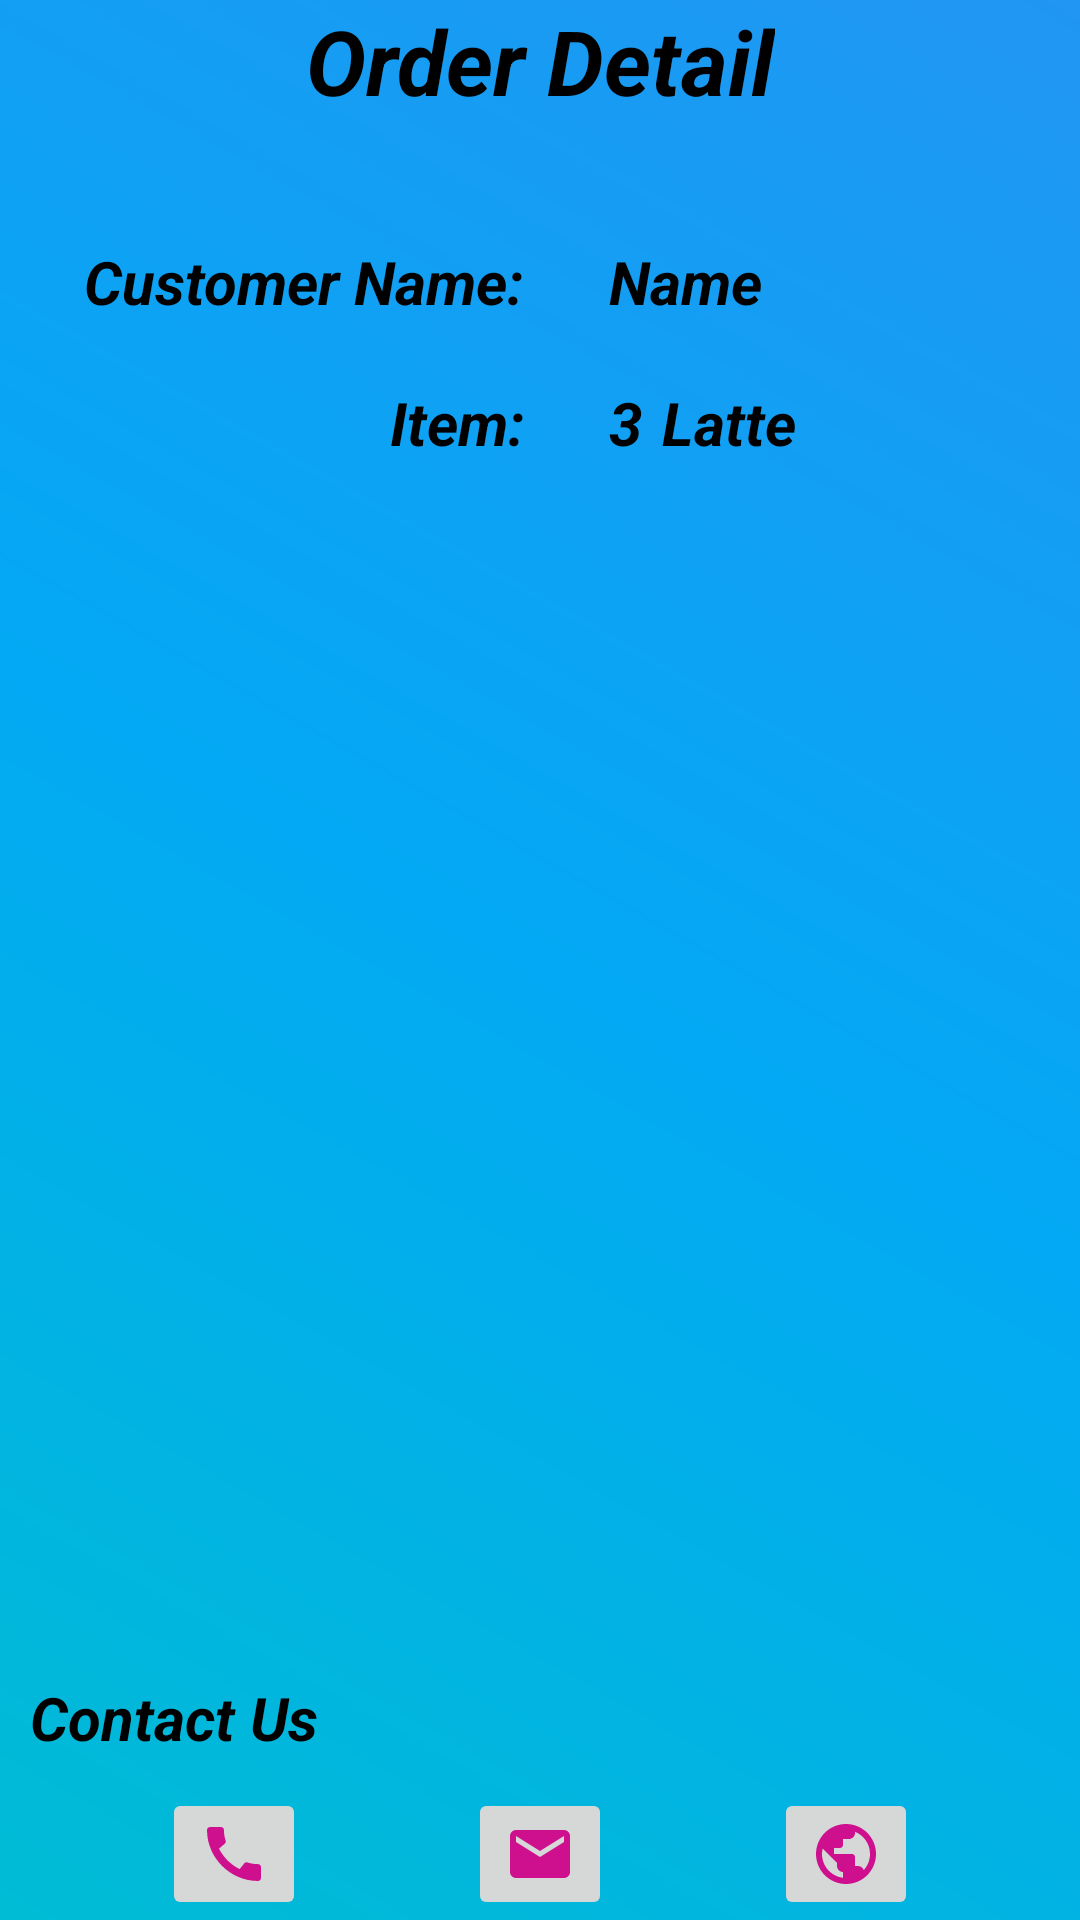

Where icons sit on this 1080px x 1920px app screen, as {"left": x1, "top": y1, "right": x2, "bottom": y2}:
call: {"left": 174, "top": 1806, "right": 294, "bottom": 1902}
email: {"left": 480, "top": 1806, "right": 600, "bottom": 1902}
public: {"left": 786, "top": 1806, "right": 906, "bottom": 1902}
